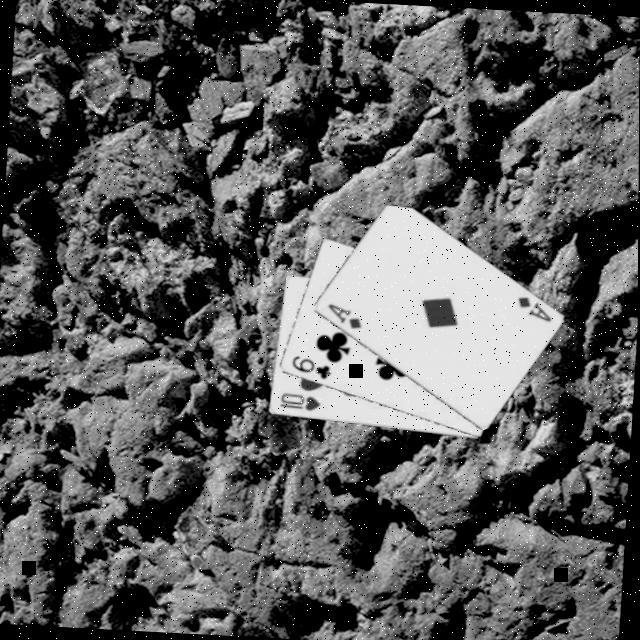10H: (276, 391, 323, 415)
6C: (287, 352, 335, 384)
AD: (512, 294, 556, 327), (322, 301, 364, 334)
